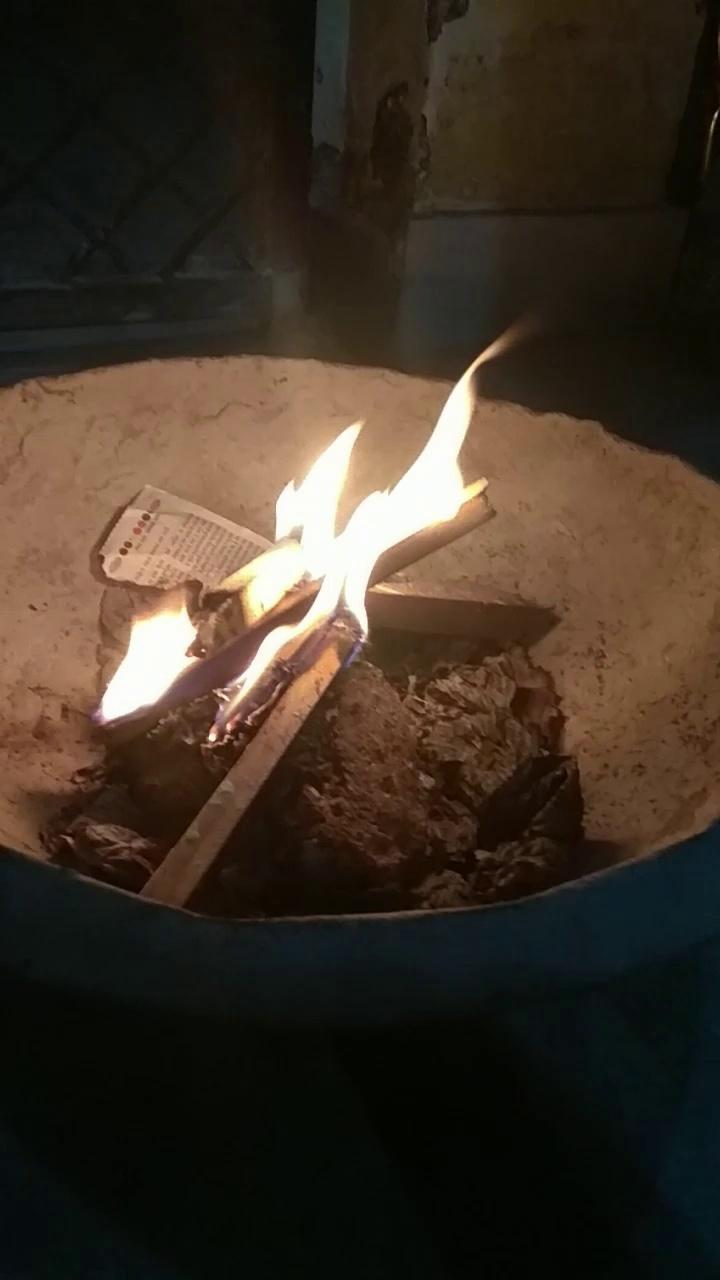fire: (85, 374, 502, 734)
